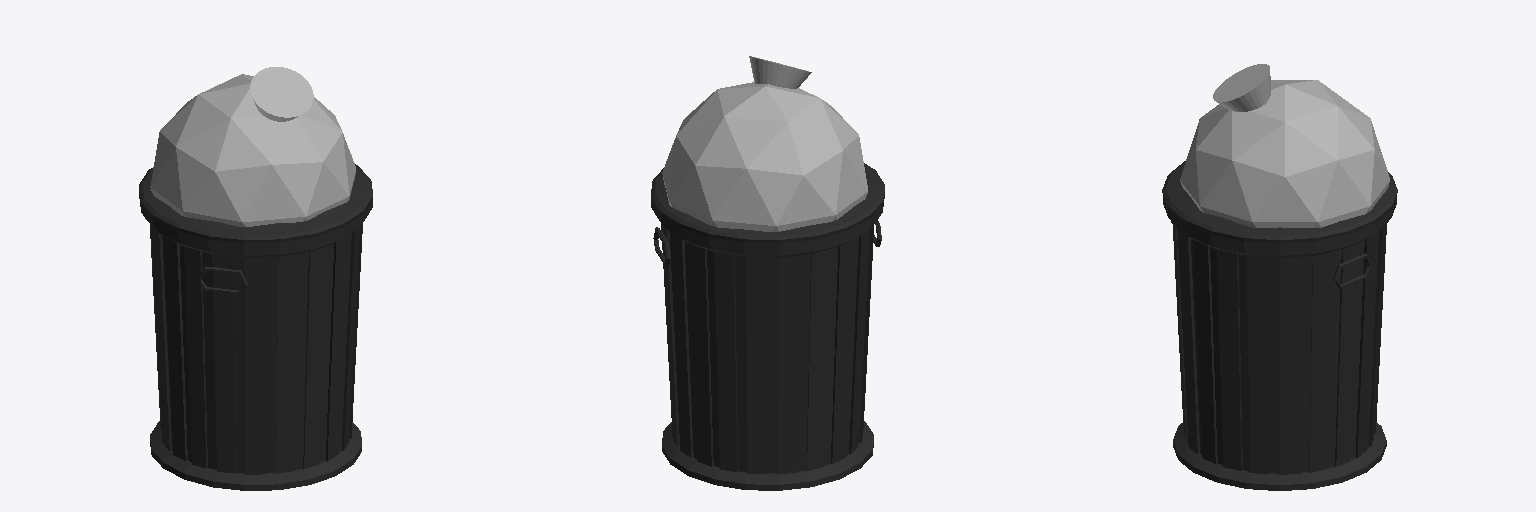
Rendered from garbage_full.obj.
The picture shows the model from 3 angles: view 1: azimuth 30°, elevation 25°; view 2: azimuth 150°, elevation 25°; view 3: azimuth 270°, elevation 25°; orthographic projection.
Visible parts, largest first — view 1: garbage_empty, Icosphere, Cone; view 2: garbage_empty, Icosphere, Cone; view 3: garbage_empty, Icosphere, Cone.
Boxes of the visible parts, x1=… form: garbage_empty: x1=139, y1=164, x2=372, y2=490; Icosphere: x1=150, y1=74, x2=355, y2=226; Cone: x1=250, y1=67, x2=313, y2=121; garbage_empty: x1=651, y1=163, x2=884, y2=490; Icosphere: x1=662, y1=82, x2=867, y2=231; Cone: x1=749, y1=56, x2=811, y2=88; garbage_empty: x1=1162, y1=161, x2=1397, y2=490; Icosphere: x1=1180, y1=80, x2=1389, y2=227; Cone: x1=1213, y1=64, x2=1270, y2=111.
Size of the model in its own units: 2.06 by 3.66 by 2.06.